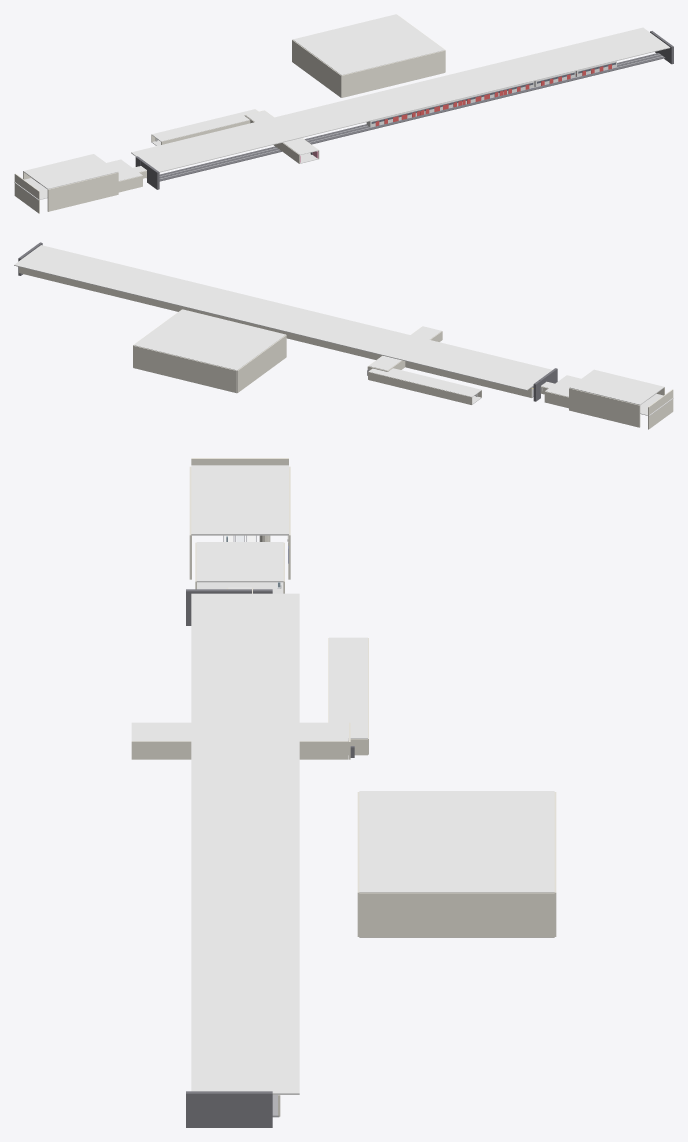
3 views of the same model, one above another, from view 1: azimuth 30°, elevation 25°; view 2: azimuth 150°, elevation 25°; view 3: azimuth 270°, elevation 25° (orthographic). The views are drawn at different scales.
Parts seen in each view (by area): view 1: S04Ceil, S02Ceil, S04TrackBed, S02WallS, S03Ceil, S03WallS, S02WallW, NC_Ceil, S03WallTop, S01Ceil, S05Ceil, NC_WallS; view 2: S04Ceil, S02Ceil, S04Wall, S02WallN, S03Ceil, S03WallN, S02WallW, NC_Ceil, NC_WallN, S03WallTop, S01Ceil, S05Ceil; view 3: S04Ceil, S02Ceil, S02WallE, S03Ceil, NC_Ceil, S05Ceil, S04TunnelE, S01Ceil, S01WallE.
Part boxes in pixels (x1=…): S04Ceil: x1=131, y1=27, x2=670, y2=172; S02Ceil: x1=293, y1=14, x2=444, y2=75; S04TrackBed: x1=159, y1=53, x2=664, y2=181; S02WallS: x1=341, y1=50, x2=445, y2=97; S03Ceil: x1=23, y1=154, x2=117, y2=189; S03WallS: x1=47, y1=172, x2=118, y2=211; S02WallW: x1=292, y1=40, x2=341, y2=97; NC_Ceil: x1=151, y1=109, x2=258, y2=141; S03WallTop: x1=14, y1=173, x2=39, y2=213; S01Ceil: x1=246, y1=110, x2=318, y2=155; S05Ceil: x1=107, y1=159, x2=142, y2=181; NC_WallS: x1=161, y1=120, x2=250, y2=144; S04Ceil: x1=14, y1=245, x2=552, y2=390; S02Ceil: x1=133, y1=309, x2=285, y2=370; S04Wall: x1=19, y1=267, x2=532, y2=397; S02WallN: x1=133, y1=345, x2=237, y2=392; S03Ceil: x1=569, y1=369, x2=664, y2=405; S03WallN: x1=569, y1=388, x2=640, y2=427; S02WallW: x1=237, y1=335, x2=286, y2=392; NC_Ceil: x1=369, y1=368, x2=481, y2=397; NC_WallN: x1=368, y1=372, x2=472, y2=404; S03WallTop: x1=648, y1=389, x2=673, y2=429; S01Ceil: x1=369, y1=326, x2=441, y2=370; S05Ceil: x1=545, y1=375, x2=580, y2=396; S04Ceil: x1=191, y1=593, x2=299, y2=1094; S02Ceil: x1=359, y1=791, x2=554, y2=892; S02WallE: x1=359, y1=892, x2=554, y2=937; S03Ceil: x1=191, y1=465, x2=288, y2=535; NC_Ceil: x1=329, y1=637, x2=367, y2=738; S05Ceil: x1=196, y1=542, x2=283, y2=582; S04TunnelE: x1=186, y1=1091, x2=272, y2=1127; S01Ceil: x1=131, y1=722, x2=348, y2=741; S01WallE: x1=131, y1=741, x2=348, y2=759.
Size of the model in its own units: 270 by 11.15 by 78.3.
